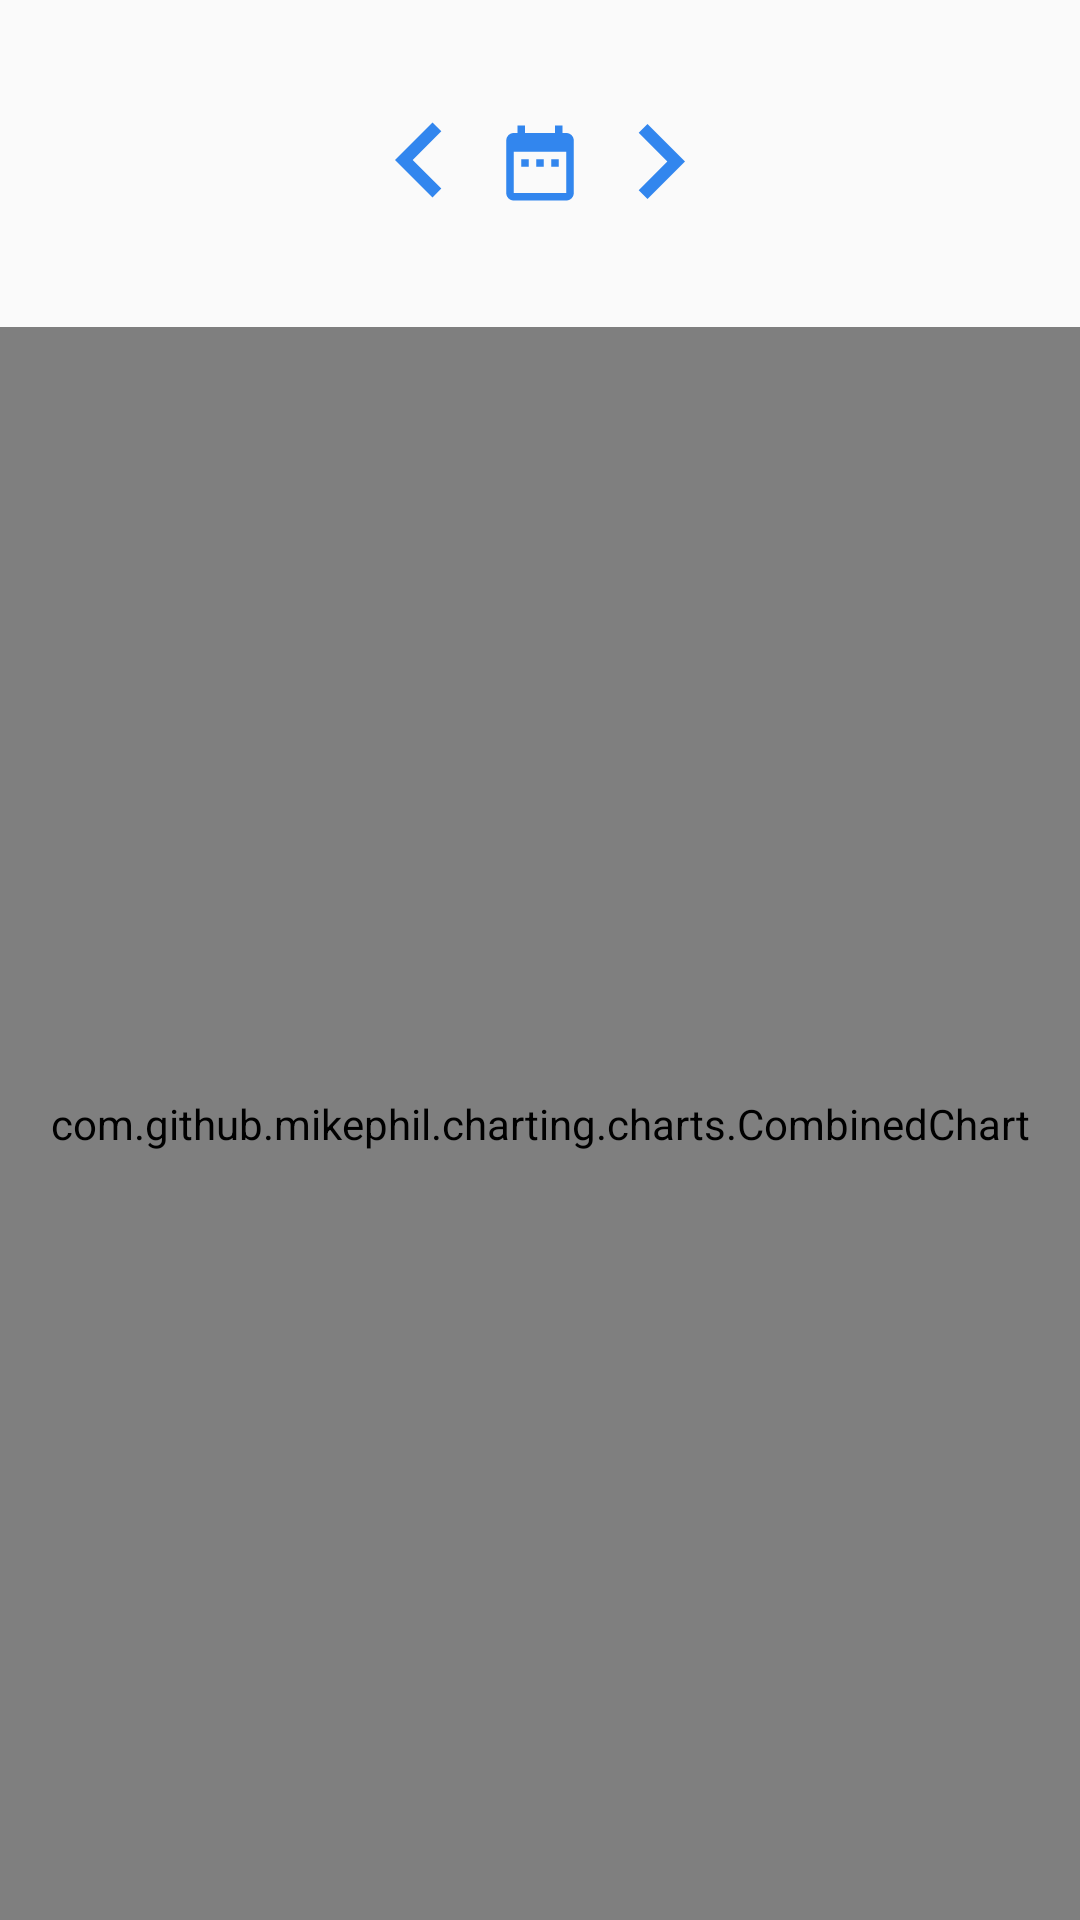

Screen size 1080×1920. Icon name, then its box in pixels as bbox(x1, y1, x2, y2):
date: bbox(506, 125, 574, 201)
keyboard arrow left: bbox(395, 122, 441, 198)
keyboard arrow right: bbox(639, 124, 685, 199)
